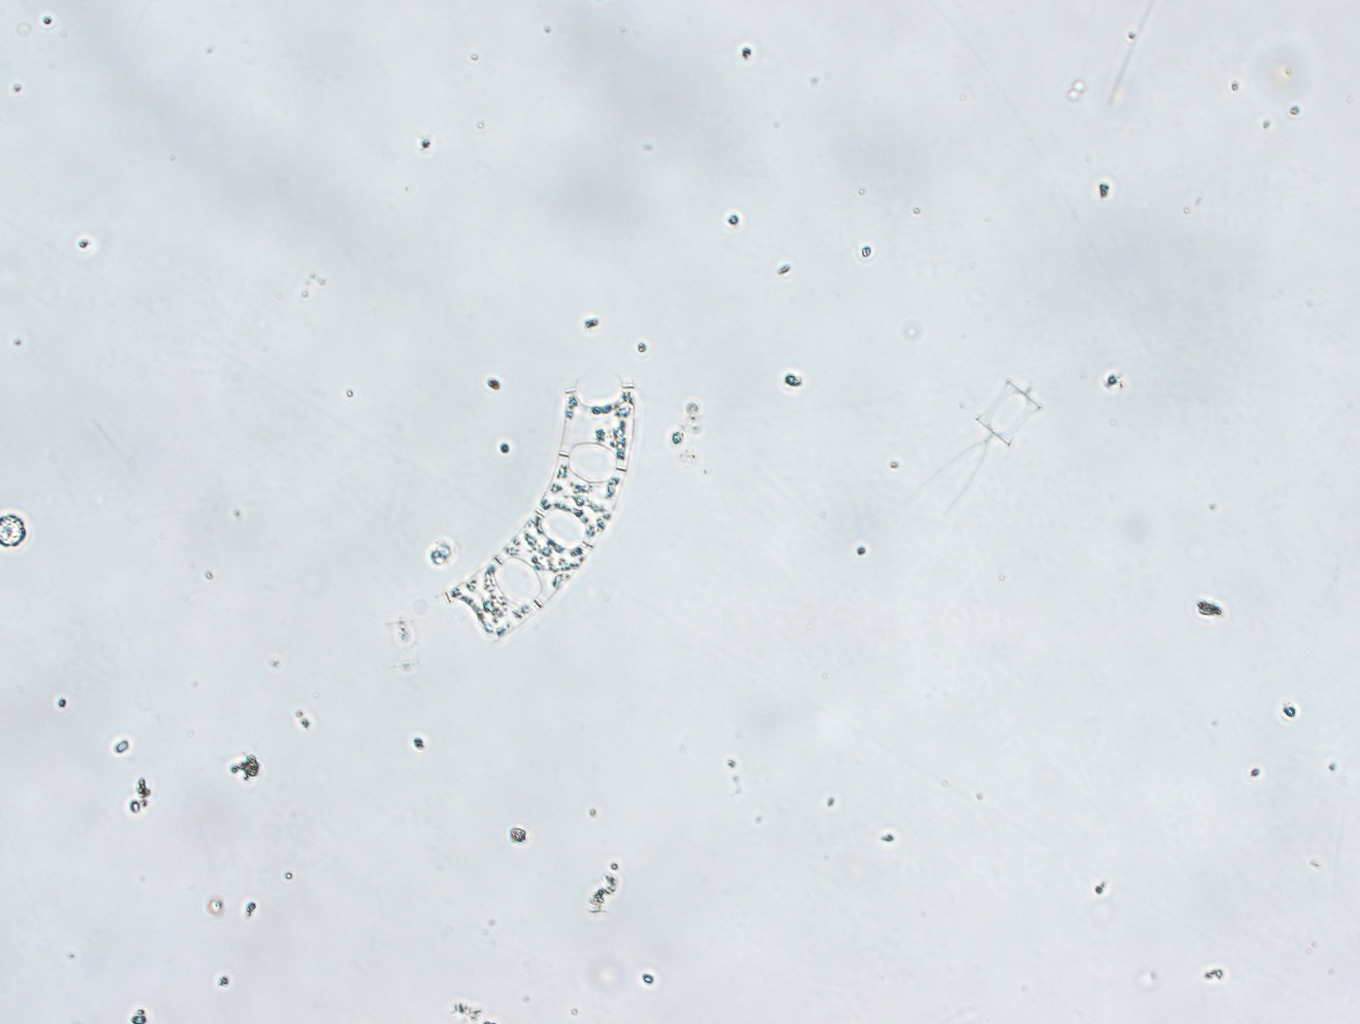chaetoceros: (926, 376, 1045, 528)
eucampia: (443, 362, 640, 648)
